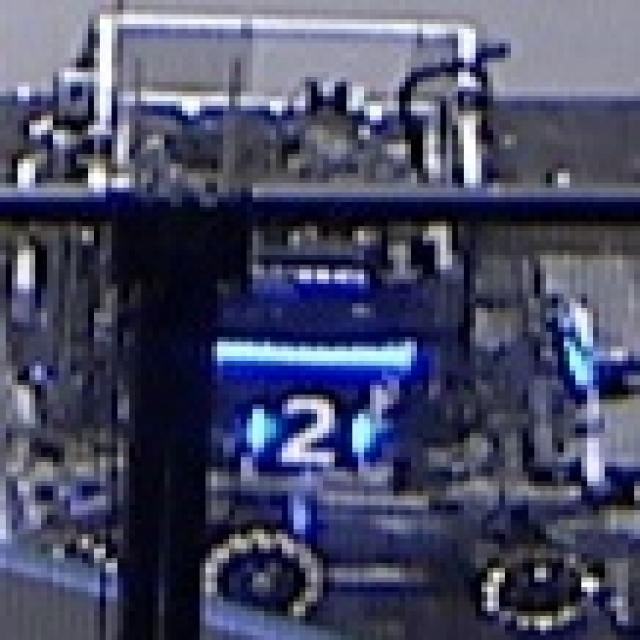B2: (229, 378, 388, 469)
